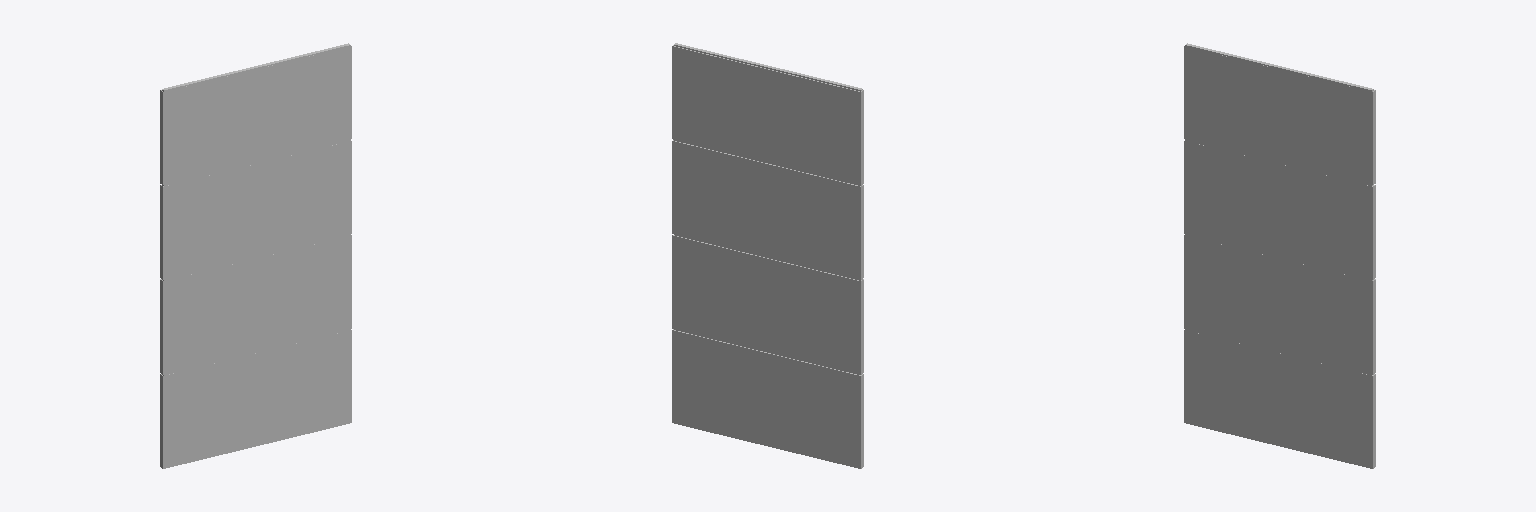
Rendered from WallPads_Cube.004.obj.
3 views of the same model, side by side, from view 1: azimuth 30°, elevation 25°; view 2: azimuth 150°, elevation 25°; view 3: azimuth 330°, elevation 25° (orthographic).
Visible parts, largest first — view 1: WallPads_Cube.004; view 2: WallPads_Cube.004; view 3: WallPads_Cube.004.
Boxes of the visible parts, box(x1,y1,x2,y2) form: WallPads_Cube.004: box(160, 43, 351, 468); WallPads_Cube.004: box(672, 43, 863, 468); WallPads_Cube.004: box(1184, 43, 1375, 468).
Bounding box in the file's own units: 2 × 3.83 × 0.05.